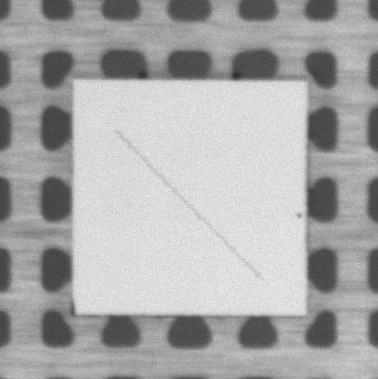DIE_CRACK: (116, 131, 260, 279)
